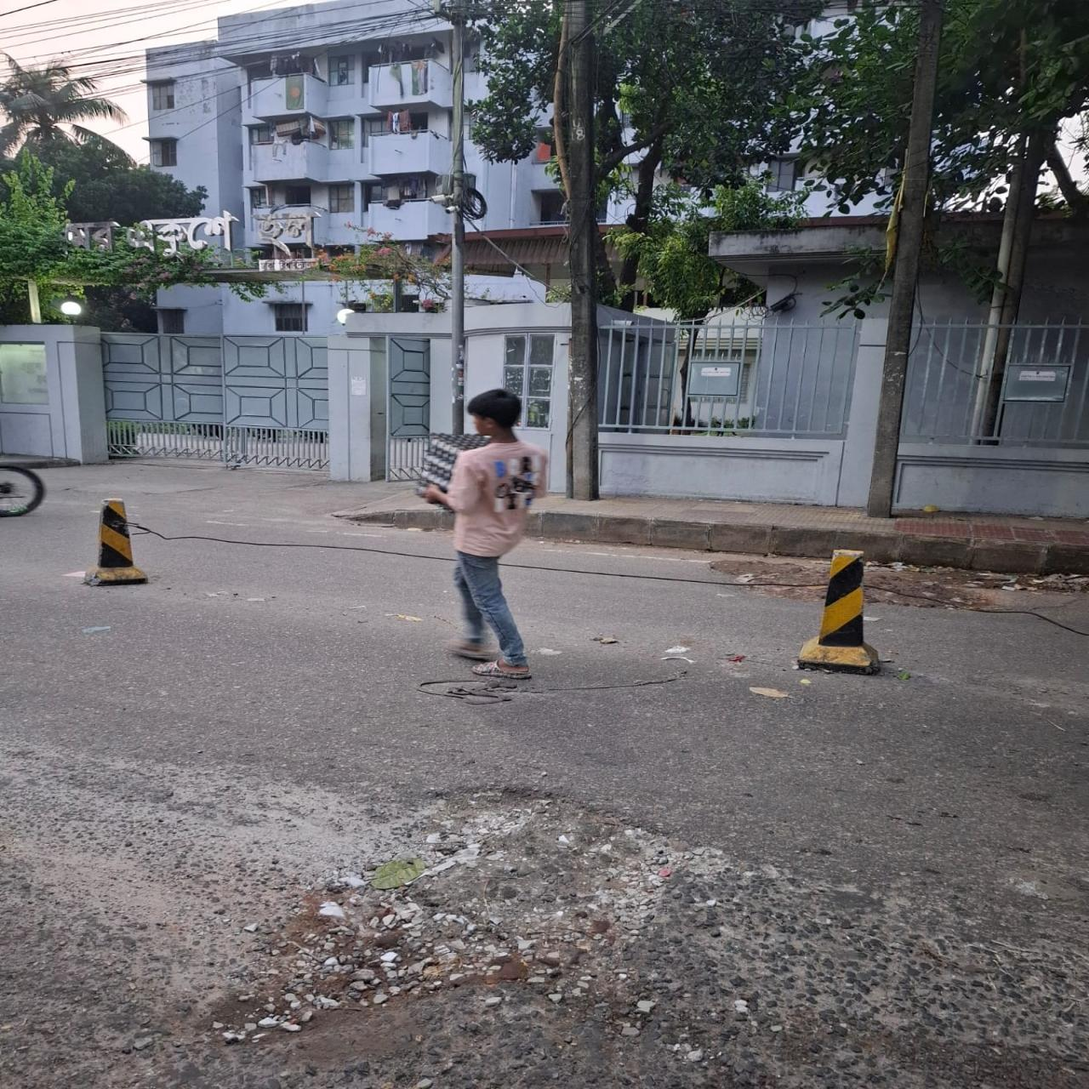person: (426, 377, 540, 691)
